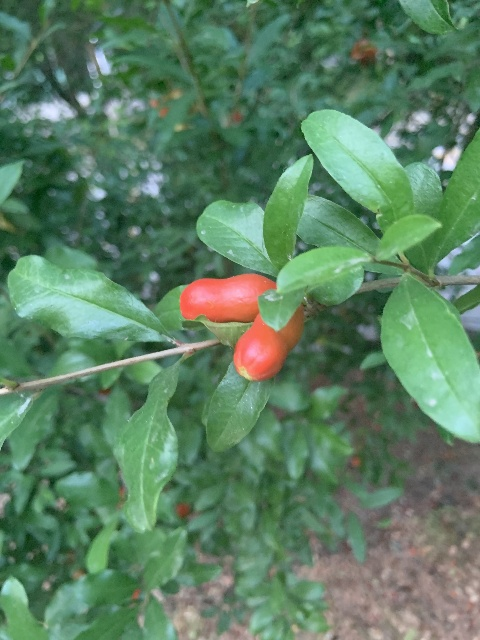bud: (234, 301, 303, 382), (179, 272, 278, 325)
